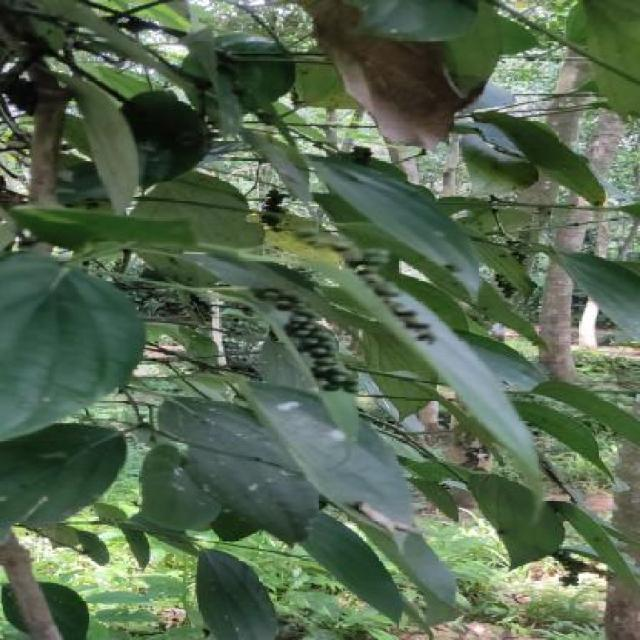UNRIPE: (290, 229, 436, 343), (247, 290, 362, 393), (259, 189, 290, 231), (551, 551, 586, 586), (490, 276, 521, 299)
